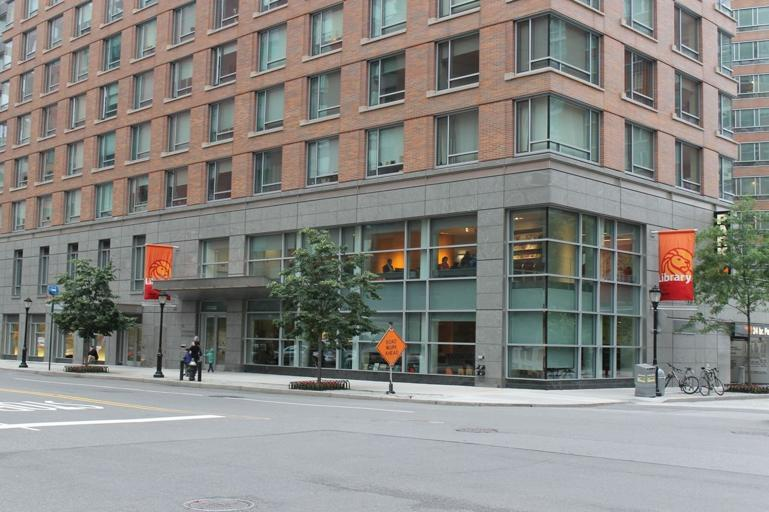non-vehicle: (664, 362, 699, 393), (698, 366, 724, 395)
